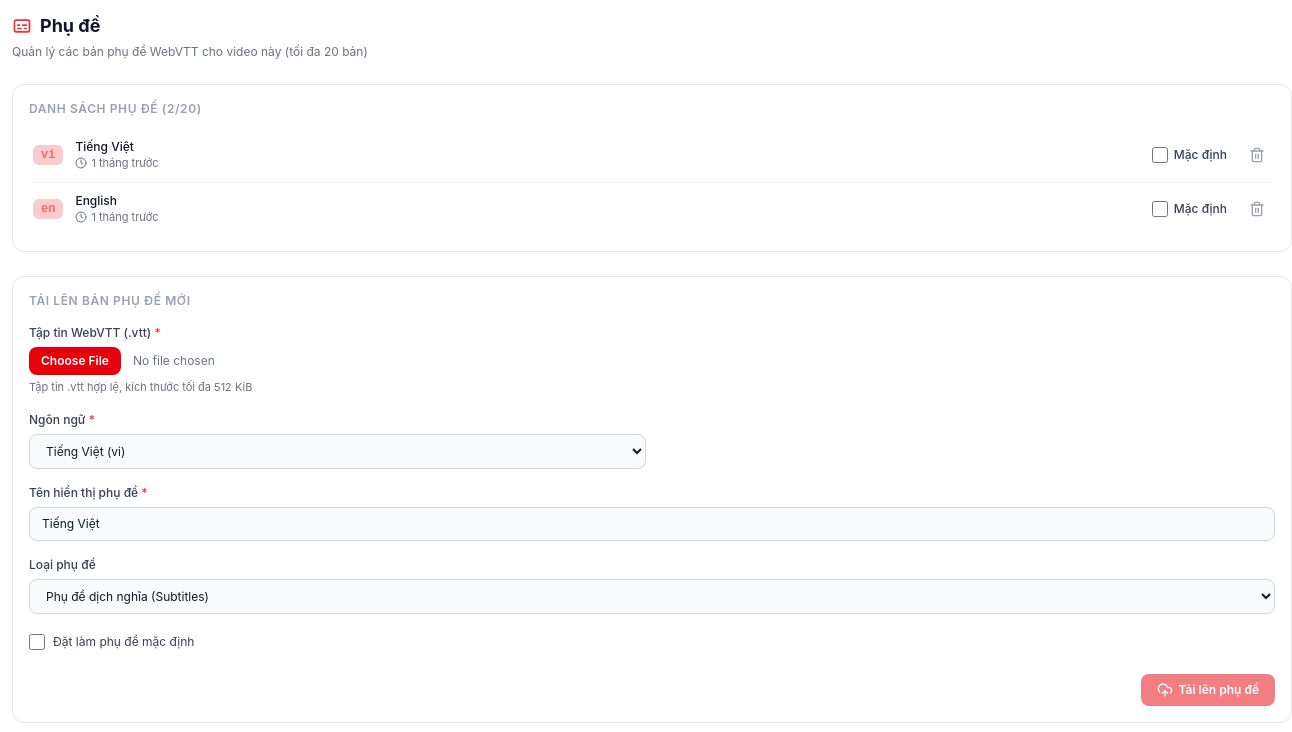
Studio Subtitles Management › sets a subtitle track as default via PATCH { is_default: true }
Click the checkbox with test id "make-default-subtitle-vi": (1160, 155) [1152,147,1168,163]
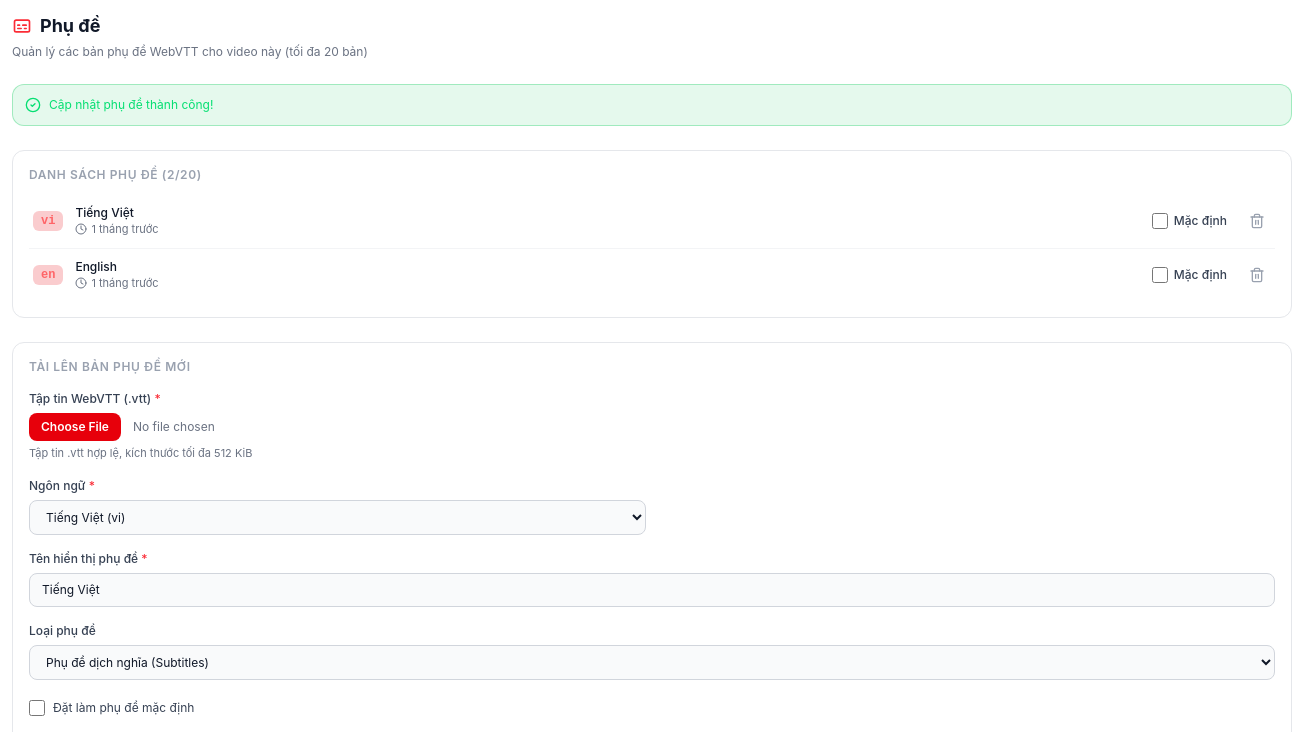
expect the message "Cập nhật phụ đề thành công!" is shown: met, box [12,84,1291,126]
